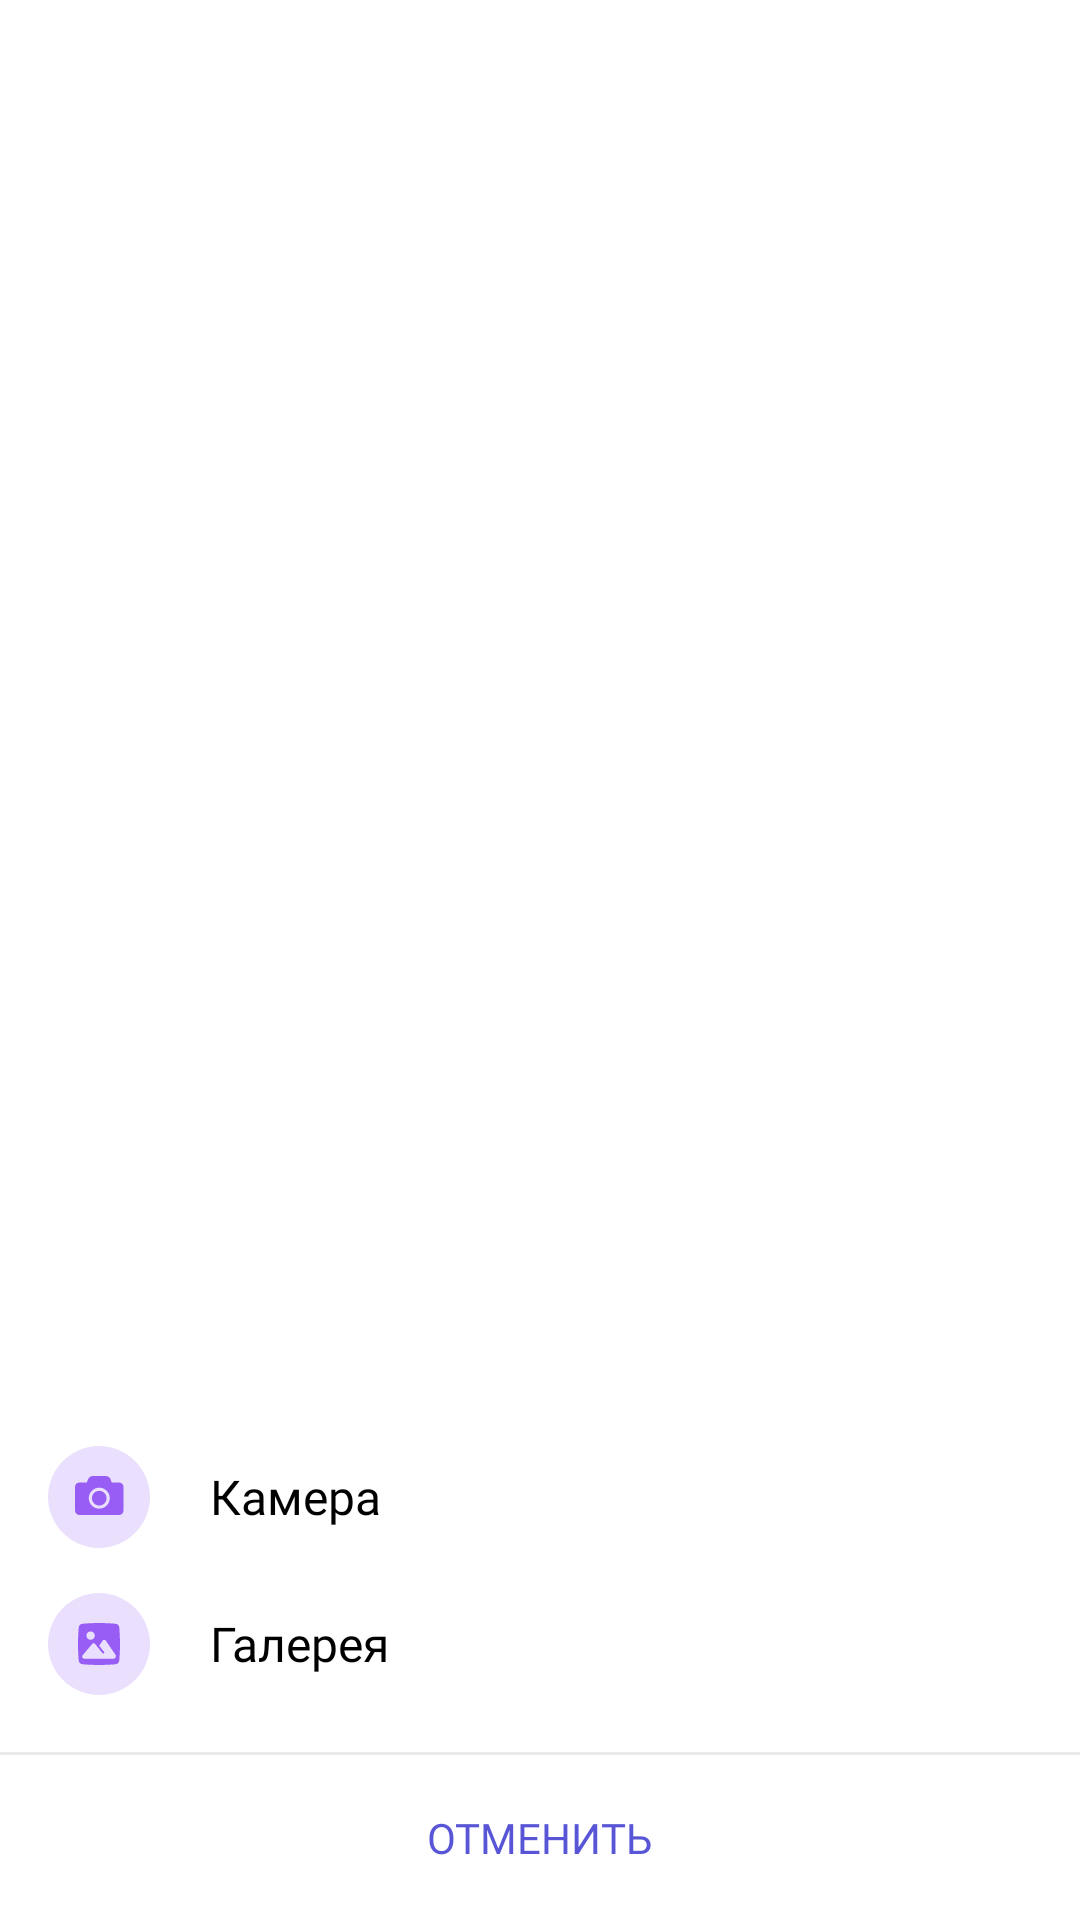

Icon bounding boxes for this 1080*1920 phone screenshot, format (x1, y1, x2, y2):
camera: (48, 1446, 150, 1548)
gallery: (48, 1593, 150, 1695)
